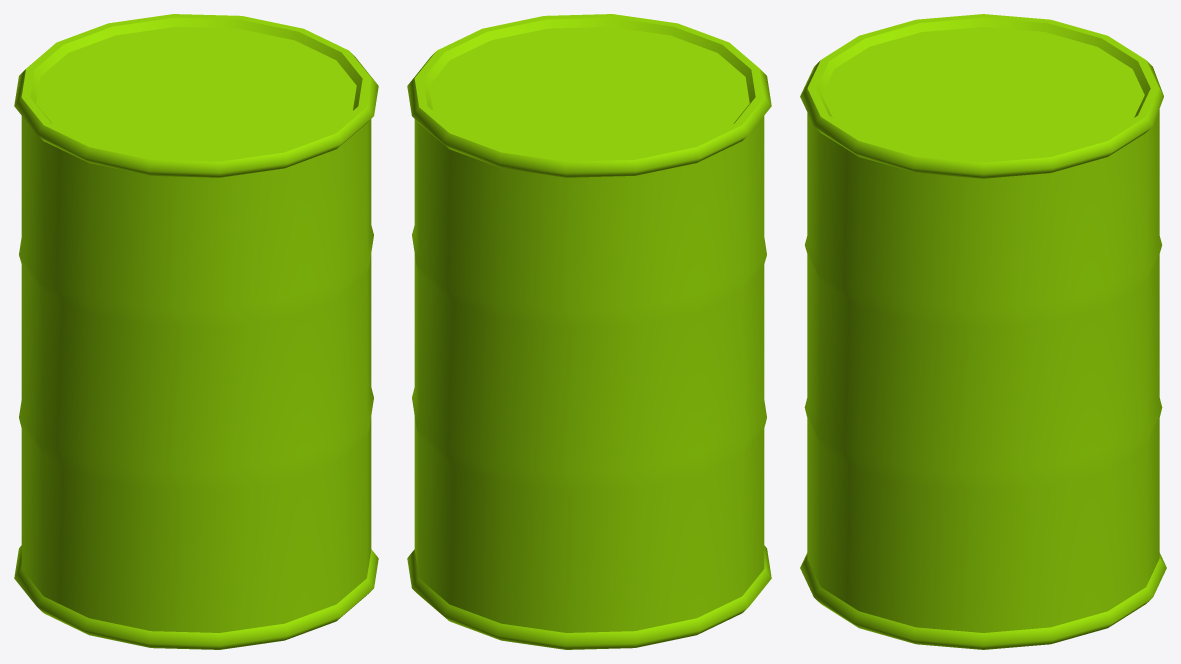
Rendered from Asset_All_2.fbx.
3 renders of one model, left to right at view 1: azimuth 30°, elevation 25°; view 2: azimuth 150°, elevation 25°; view 3: azimuth 270°, elevation 25°, orthographic.
Visible parts, largest first — view 1: Asset_All_2; view 2: Asset_All_2; view 3: Asset_All_2.
Boxes of the visible parts, left/top/right/bottom form: Asset_All_2: left=14, top=14, right=378, bottom=649; Asset_All_2: left=407, top=14, right=771, bottom=649; Asset_All_2: left=800, top=14, right=1166, bottom=649.
Bounding box in the file's own units: 45.43 × 66.55 × 45.43.
